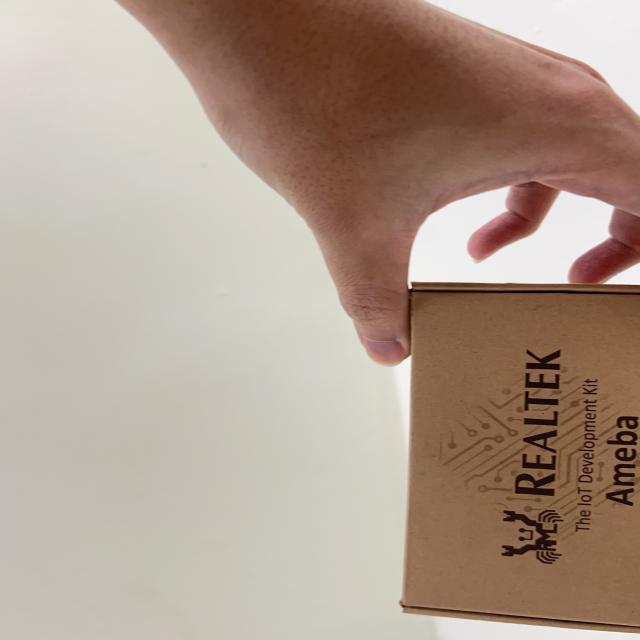box: (395, 274, 640, 640)
